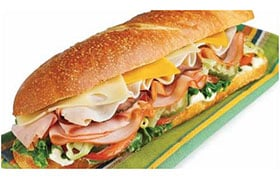soup: (11, 10, 268, 169)
